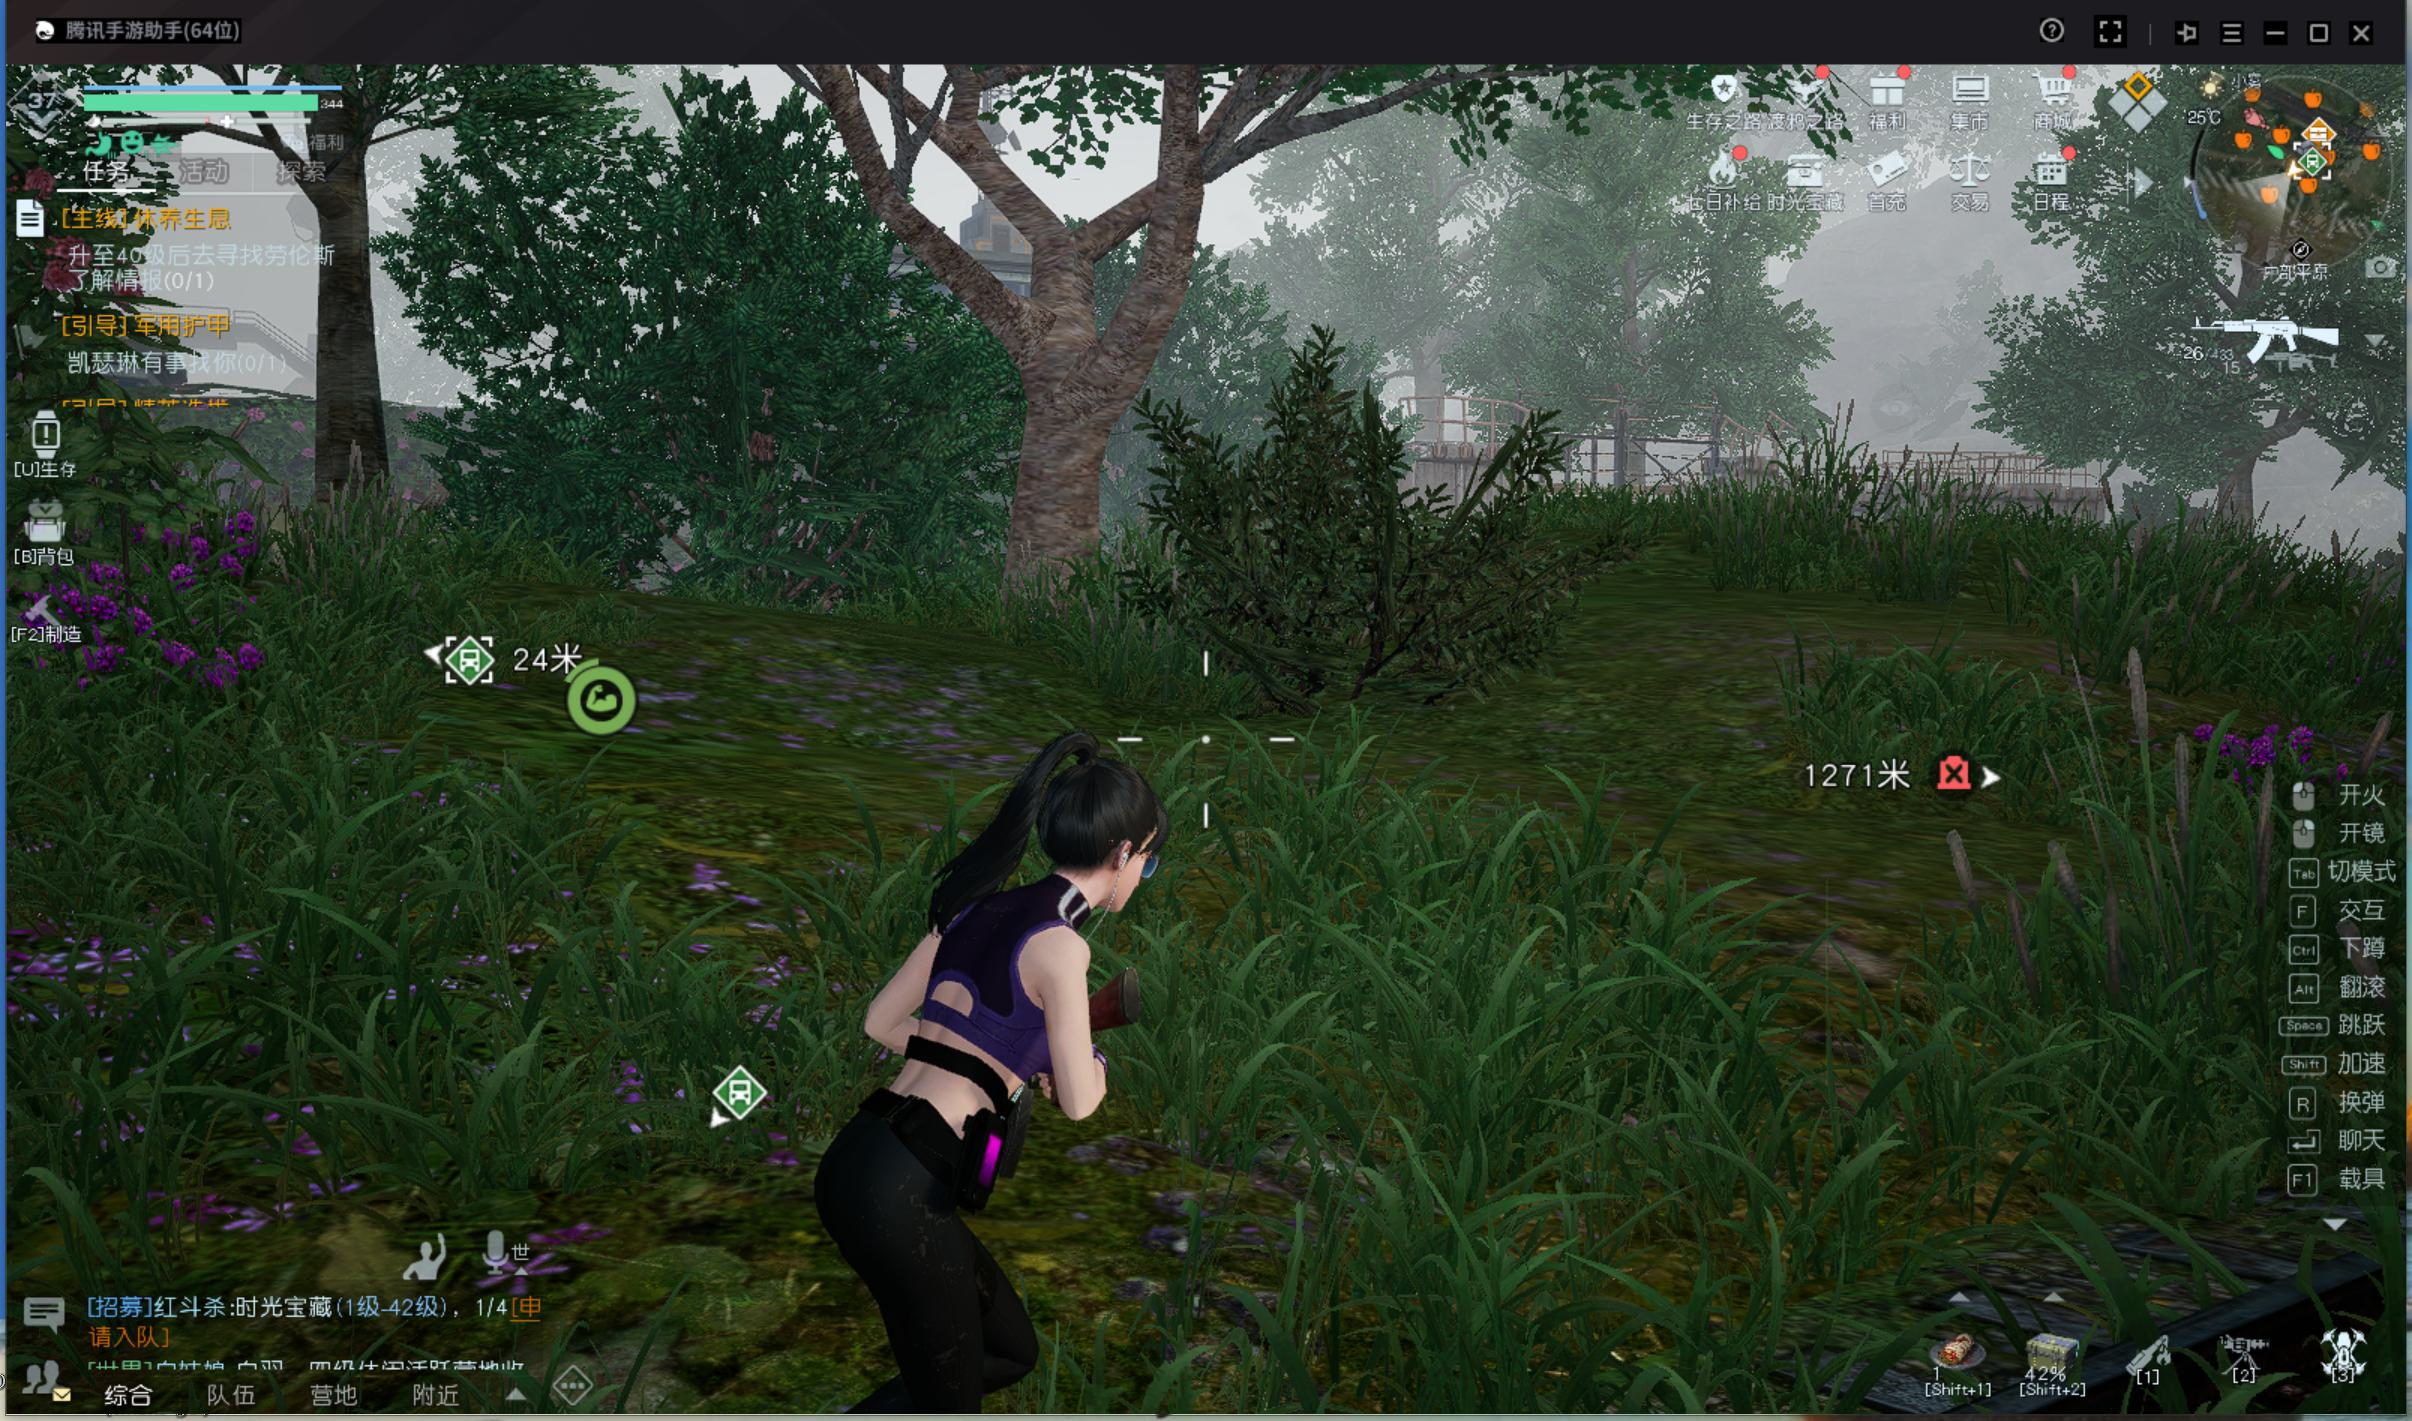tree: (984, 247, 1138, 614), (274, 186, 413, 538)
